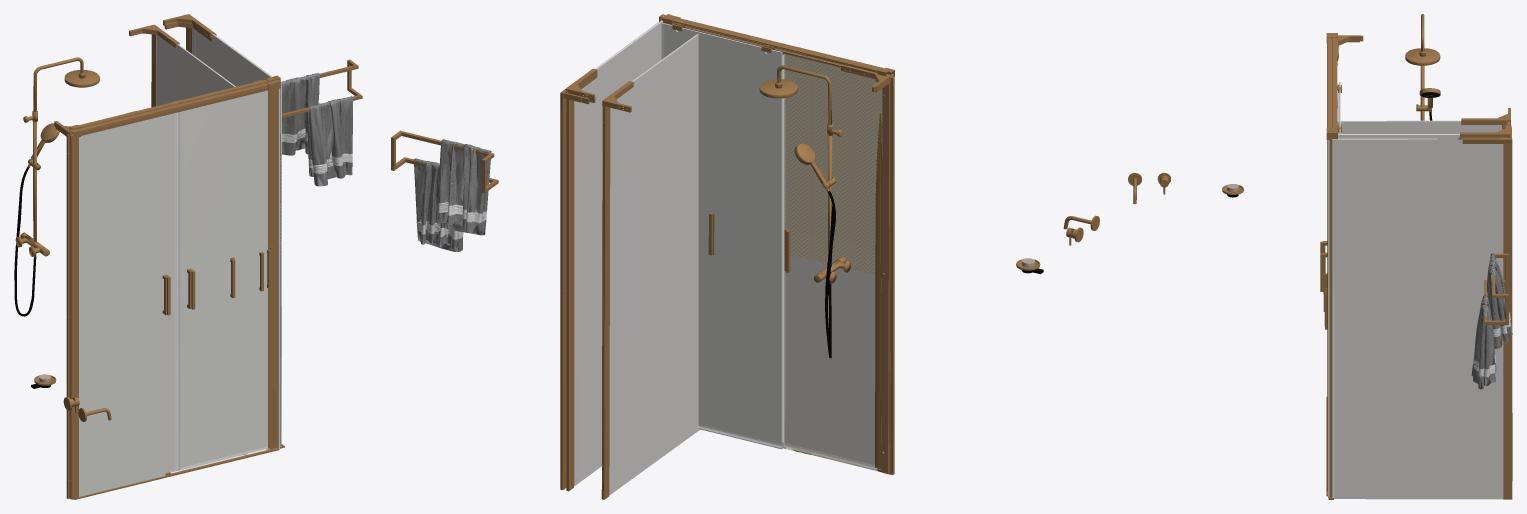
The model's file is PAROIS_compressed.glb.
3 views of the same model, side by side, from view 1: azimuth 30°, elevation 25°; view 2: azimuth 150°, elevation 25°; view 3: azimuth 270°, elevation 25° (orthographic). The views are drawn at different scales.
Visible parts, largest first — view 1: PLCLS 1200x2000 + PLTWU 900x2000, RightDoor.001, PLPIV 1000x2000 + PLTWU 900x2000.002, leftDoor.001, towel.002, Shower system, frame.001, towel.001, frame.003, PLPIF 1200X2000, PLPIF 1200X2000 + PLTWU 900x2000, PLCLS 1200x2000 (+4 smaller); view 2: PLPIV 1000x2000 + PLTWU 900x2000.002, MovingDoor, Moving door.001, PLCLS 1200x2000 + PLTWU 900x2000, PLTWU 1000x2000, Serigraphie Chevrons carrée.001, towel.001, Shower system, PLPIF 1200X2000 + PLTWU 900x2000, PLCLS 1200x2000, PLPIV 1000x2000.001, towel.002 (+2 smaller); view 3: PLPIF 1200X2000 + PLTWU 900x2000, PLPIV 1000x2000 + PLTWU 900x2000.002, PLCLS 1200x2000 + PLTWU 900x2000, towel.002, frame.003, towel.001, Shower system, PLPIF 1200X2000, PLCLS 1200x2000, Towel rack, RightDoor.001.
Boxes of the visible parts, box(x1,y1,x2,y2) form: PLCLS 1200x2000 + PLTWU 900x2000: box(69, 14, 280, 499); RightDoor.001: box(178, 90, 273, 471); PLPIV 1000x2000 + PLTWU 900x2000.002: box(70, 24, 246, 480); leftDoor.001: box(165, 112, 178, 473); towel.002: box(307, 96, 353, 186); Shower system: box(14, 57, 99, 316); frame.001: box(76, 89, 278, 499); towel.001: box(281, 73, 319, 155); frame.003: box(69, 21, 280, 499); PLPIF 1200X2000: box(55, 125, 271, 498); PLPIF 1200X2000 + PLTWU 900x2000: box(70, 33, 284, 473); PLCLS 1200x2000: box(69, 75, 280, 468); PLPIV 1000x2000 + PLTWU 900x2000.002: box(601, 34, 893, 499); MovingDoor: box(661, 22, 782, 449); Moving door.001: box(708, 113, 881, 471); PLCLS 1200x2000 + PLTWU 900x2000: box(565, 14, 894, 491); PLTWU 1000x2000: box(676, 27, 890, 473); Serigraphie Chevrons carrée.001: box(767, 52, 881, 470); towel.001: box(438, 139, 491, 235); Shower system: box(759, 65, 850, 358); PLPIF 1200X2000 + PLTWU 900x2000: box(560, 22, 890, 489); PLCLS 1200x2000: box(659, 14, 889, 447); PLPIV 1000x2000.001: box(791, 94, 889, 473); towel.002: box(413, 158, 463, 251); PLPIF 1200X2000 + PLTWU 900x2000: box(1328, 41, 1512, 499); PLPIV 1000x2000 + PLTWU 900x2000.002: box(1337, 108, 1512, 480); PLCLS 1200x2000 + PLTWU 900x2000: box(1326, 33, 1510, 497); towel.002: box(1471, 295, 1496, 389); frame.003: box(1326, 125, 1508, 497); towel.001: box(1487, 253, 1512, 348); Shower system: box(1405, 14, 1440, 120); PLPIF 1200X2000: box(1331, 139, 1332, 497); PLCLS 1200x2000: box(1331, 33, 1338, 139); Towel rack: box(1484, 253, 1508, 324); RightDoor.001: box(1320, 140, 1327, 491).
Bounding box in the file's own units: 2.63 × 2.18 × 1.94.
13 materials, 5 textured.
